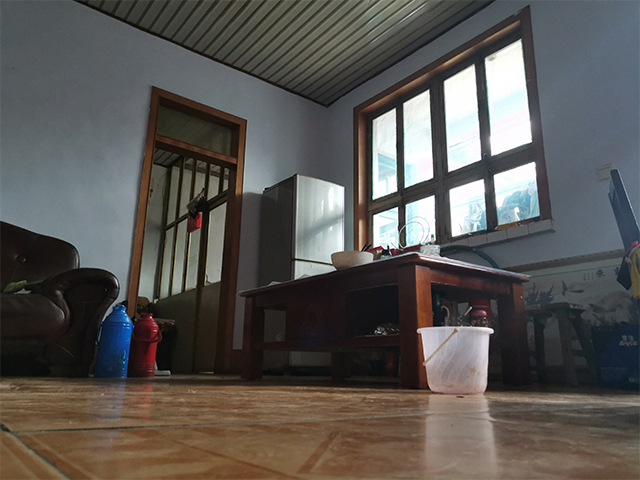sofa: (1, 219, 122, 380)
table: (236, 251, 533, 392)
trashcan: (413, 324, 496, 396)
